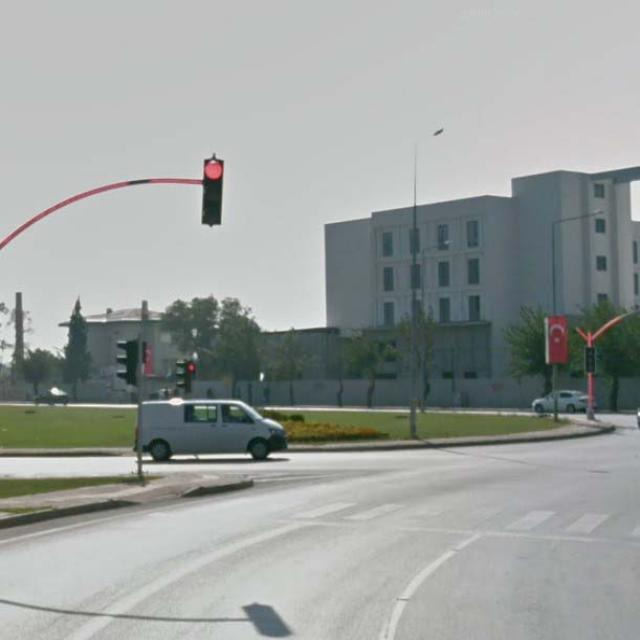kirmizi: (207, 158, 224, 226)
